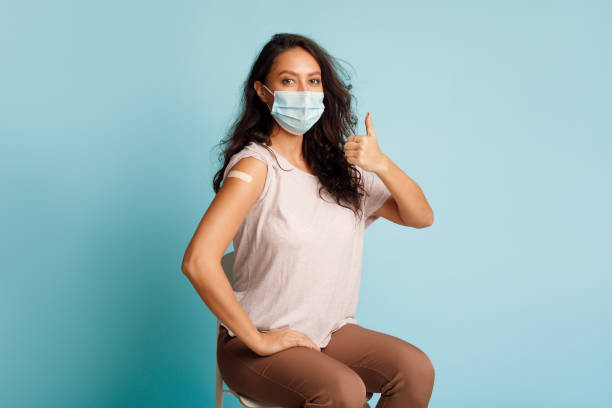with mask: (250, 46, 338, 138)
